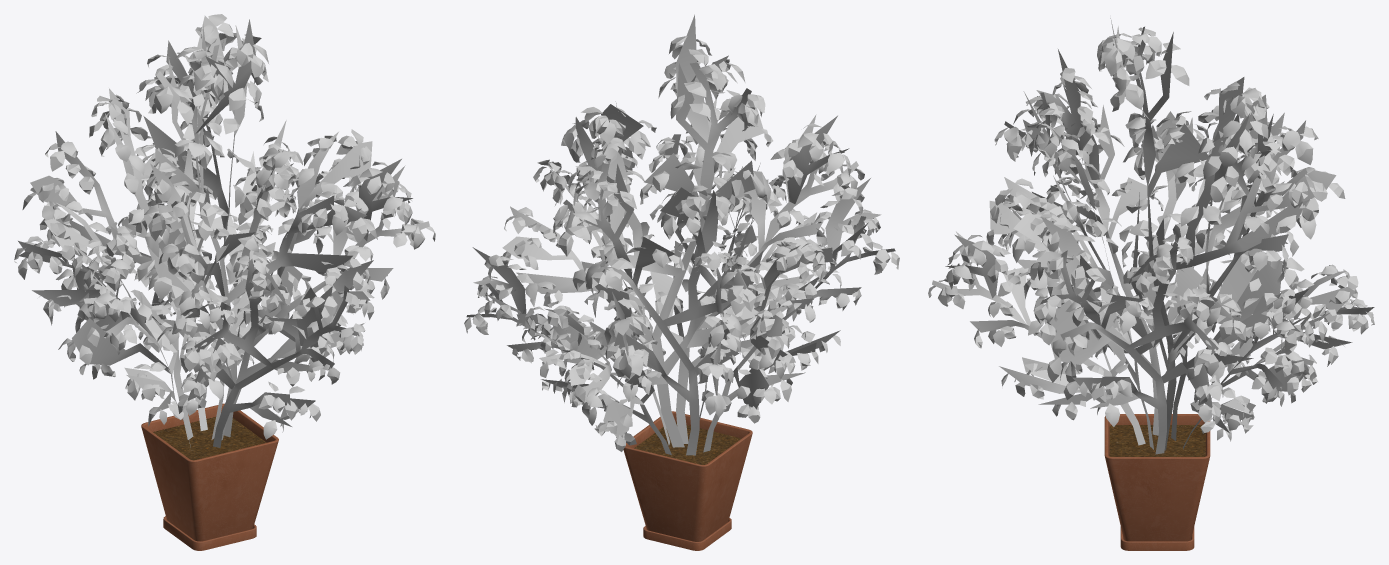
The model's file is SM_StreetPlant.fbx.
3 renders of one model, left to right at view 1: azimuth 30°, elevation 25°; view 2: azimuth 150°, elevation 25°; view 3: azimuth 270°, elevation 25°, orthographic. The views are drawn at different scales.
Visible parts, largest first — view 1: SM_StreetPlant_LOD0; view 2: SM_StreetPlant_LOD0; view 3: SM_StreetPlant_LOD0.
Boxes of the visible parts, x1,y1,x2,y2 form: SM_StreetPlant_LOD0: [14, 14, 435, 550]; SM_StreetPlant_LOD0: [464, 14, 899, 550]; SM_StreetPlant_LOD0: [928, 18, 1374, 550].
Bounding box in the file's own units: 214 × 236 × 309.
